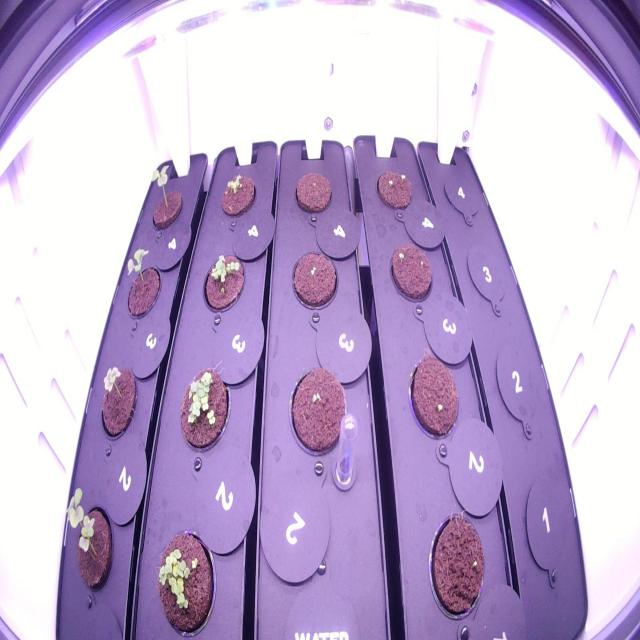empty_pod: (518, 469, 578, 585), (492, 340, 546, 432), (463, 238, 513, 310), (440, 162, 485, 228)
germination: (281, 357, 357, 466), (151, 520, 220, 639), (60, 486, 121, 600), (173, 357, 237, 461), (93, 358, 143, 448), (284, 247, 344, 318), (382, 238, 437, 311), (197, 244, 249, 321), (118, 240, 164, 320), (139, 160, 186, 234), (370, 162, 420, 217), (214, 166, 261, 224)
pod: (423, 502, 490, 628), (402, 342, 463, 449), (288, 165, 337, 224)
